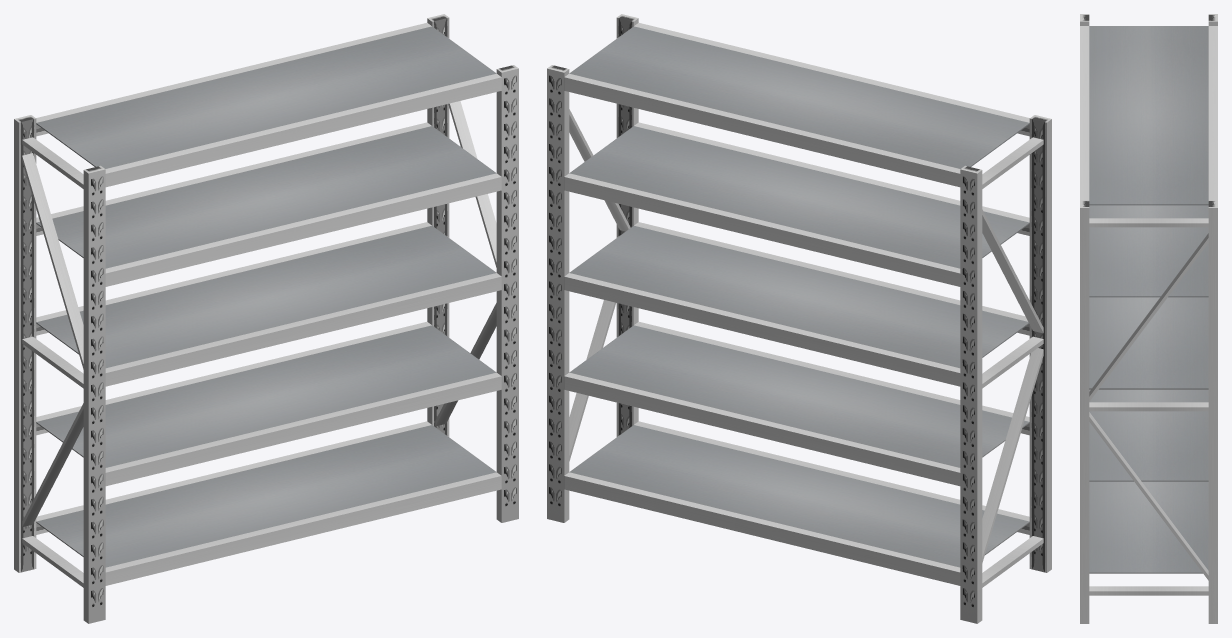
The model's file is BAISE_WU.obj.
3 views of the same model, side by side, from view 1: azimuth 30°, elevation 25°; view 2: azimuth 150°, elevation 25°; view 3: azimuth 270°, elevation 25° (orthographic). The views are drawn at different scales.
Parts seen in each view (by area): view 1: Mesh1; view 2: Mesh1; view 3: Mesh1.
Boxes of the visible parts, x1,y1,x2,y2 form: Mesh1: [14, 14, 518, 623]; Mesh1: [547, 14, 1051, 623]; Mesh1: [1080, 14, 1217, 623].
Bounding box in the file's own units: 2000 × 2000 × 600.
Materials: 1 (1 with a texture image).
